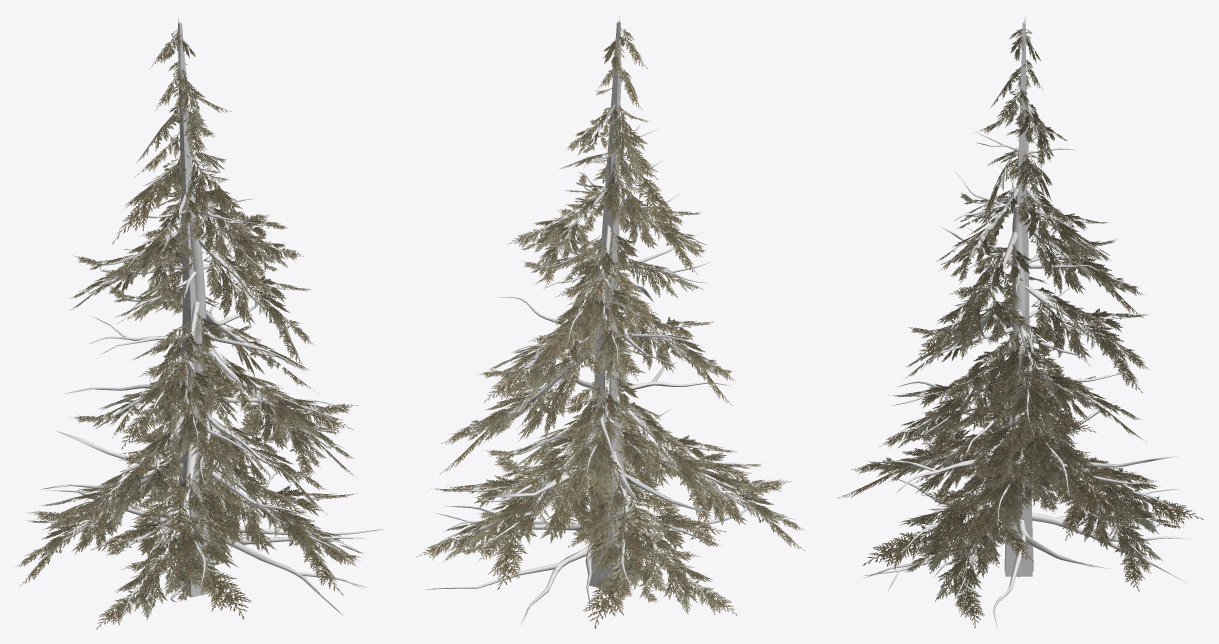
Rendered from SM_pine.fbx.
3 views of the same model, side by side, from view 1: azimuth 30°, elevation 25°; view 2: azimuth 150°, elevation 25°; view 3: azimuth 270°, elevation 25° (orthographic). The views are drawn at different scales.
Parts seen in each view (by area): view 1: SM_pine_LOD0, SM_pine_ConvexHulls; view 2: SM_pine_LOD0, SM_pine_ConvexHulls; view 3: SM_pine_LOD0, SM_pine_ConvexHulls.
Part boxes in pixels (<box>): SM_pine_LOD0: <box>15,17,384,629</box>; SM_pine_ConvexHulls: <box>177,22,215,597</box>; SM_pine_LOD0: <box>416,16,805,628</box>; SM_pine_ConvexHulls: <box>589,21,626,590</box>; SM_pine_LOD0: <box>837,15,1203,628</box>; SM_pine_ConvexHulls: <box>1005,22,1032,576</box>.
Size of what is drawn, in the model's own units: 306 by 506 by 308.
